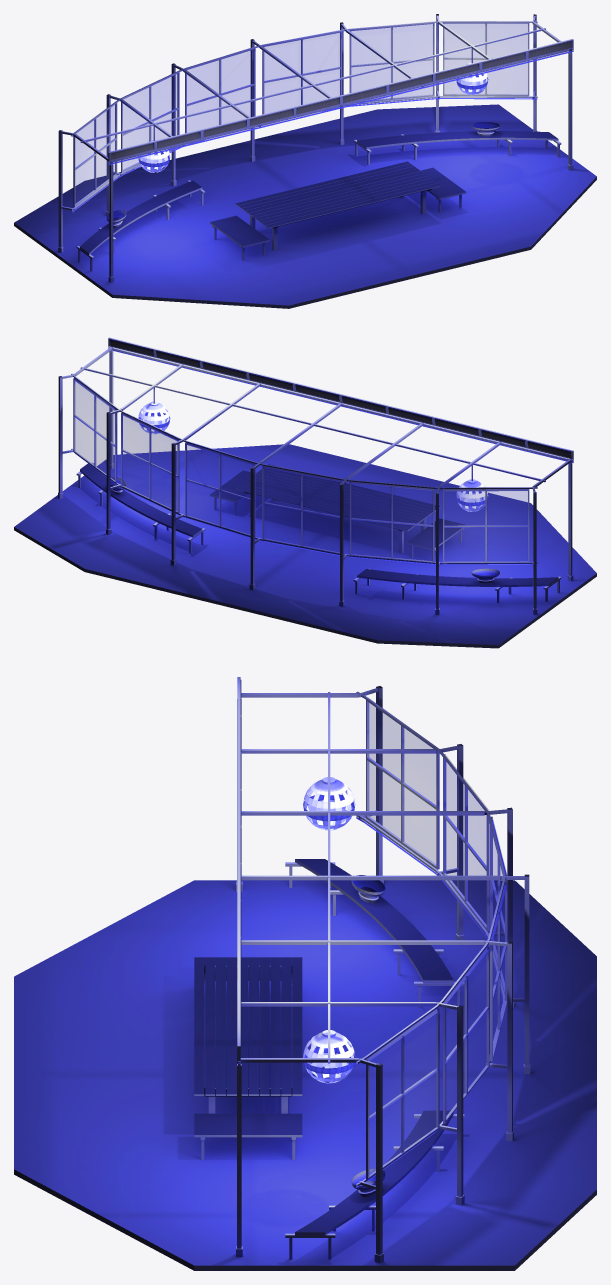
File: blue_space_metaverse_asset (1).glb
3 renders of one model, top to bottom at view 1: azimuth 30°, elevation 25°; view 2: azimuth 150°, elevation 25°; view 3: azimuth 270°, elevation 25°, orthographic. The views are drawn at different scales.
Parts seen in each view (by area): view 1: Object_2, Object_3; view 2: Object_2, Object_3; view 3: Object_2.
Boxes of the visible parts, <box> form: Object_2: <box>14,14,596,308</box>; Object_3: <box>212,189,461,260</box>; Object_2: <box>14,337,596,648</box>; Object_3: <box>214,491,464,561</box>; Object_2: <box>14,677,596,1270</box>.
Bounding box in the file's own units: 13.83 × 3.62 × 8.84.
Materials: 1 (1 with a texture image).
